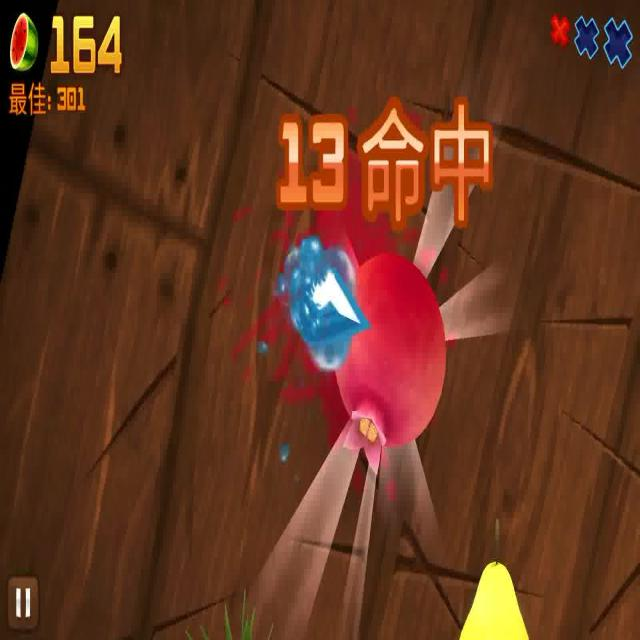fruit: (326, 248, 444, 459), (454, 545, 532, 640)
